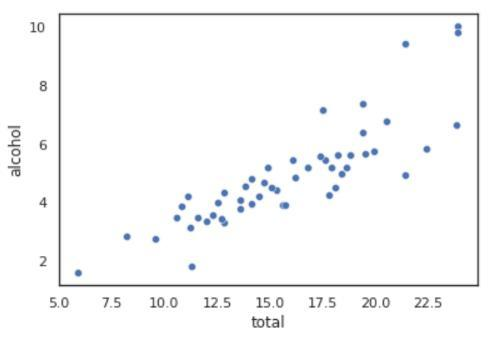axis: (53, 280, 481, 291), (53, 7, 65, 292)
point: (182, 187, 195, 203), (186, 260, 201, 273), (277, 199, 290, 213), (262, 161, 275, 175), (380, 116, 394, 129), (302, 162, 315, 175), (400, 168, 413, 181), (287, 154, 301, 166), (288, 172, 302, 184), (329, 181, 343, 193), (217, 219, 232, 230), (150, 233, 163, 245), (336, 169, 349, 181), (358, 98, 371, 110), (317, 105, 330, 117), (451, 119, 463, 132), (323, 189, 334, 203), (356, 127, 370, 138), (273, 185, 285, 197), (345, 150, 357, 162), (121, 231, 134, 242), (216, 214, 229, 225), (246, 174, 259, 185), (341, 162, 354, 173), (72, 267, 84, 278), (171, 213, 183, 224), (239, 182, 251, 193), (258, 177, 270, 188), (266, 182, 278, 193), (326, 164, 338, 175), (360, 149, 372, 160), (369, 146, 380, 158), (421, 143, 433, 154), (218, 188, 231, 198), (234, 195, 245, 206), (247, 199, 258, 210), (333, 150, 344, 161), (400, 38, 411, 49), (186, 223, 198, 233), (206, 210, 219, 219), (177, 200, 187, 211), (193, 213, 203, 224), (235, 204, 245, 215), (213, 199, 224, 209), (315, 151, 325, 162), (320, 156, 331, 166), (452, 29, 465, 37), (203, 216, 212, 227), (254, 192, 265, 201), (453, 21, 463, 30)
